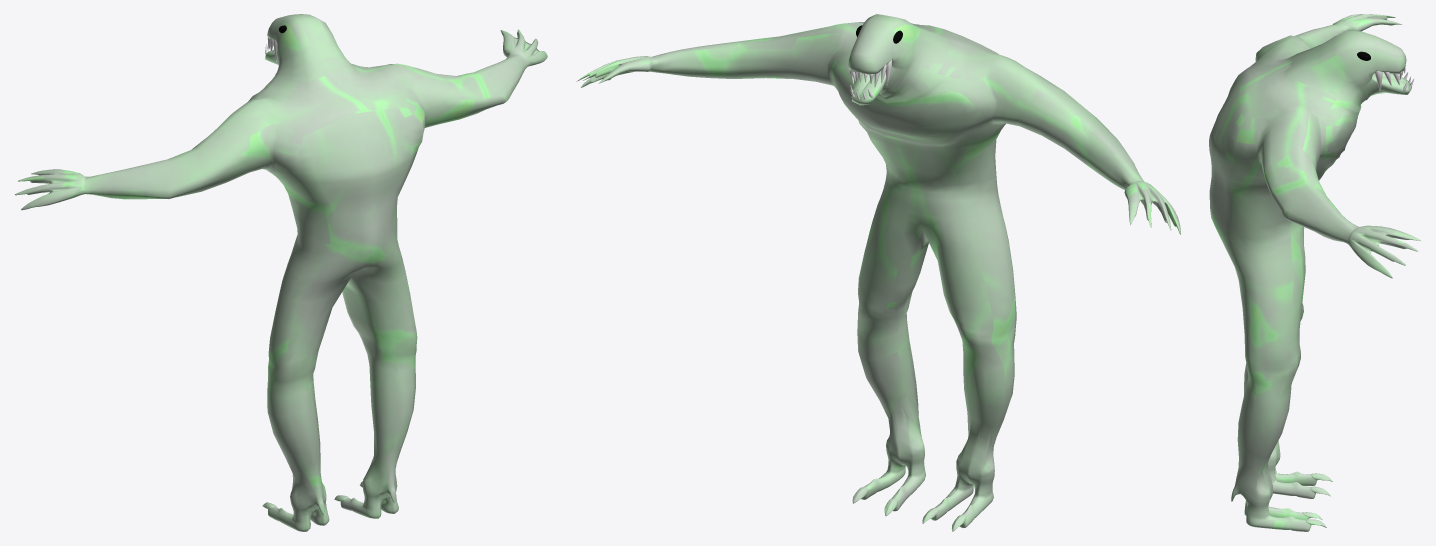
The model's file is Berserkeraranar.0018.obj.
3 renders of one model, left to right at view 1: azimuth 30°, elevation 25°; view 2: azimuth 150°, elevation 25°; view 3: azimuth 270°, elevation 25°, orthographic. The views are drawn at different scales.
Parts seen in each view (by area): view 1: polySurface27; view 2: polySurface27; view 3: polySurface27.
Part boxes in pixels (<box>): polySurface27: <box>15,14,547,531</box>; polySurface27: <box>576,14,1180,531</box>; polySurface27: <box>1209,14,1420,531</box>.
Size of the model in its own units: 28.49 by 24.03 by 9.65.
1 material, 1 textured.
